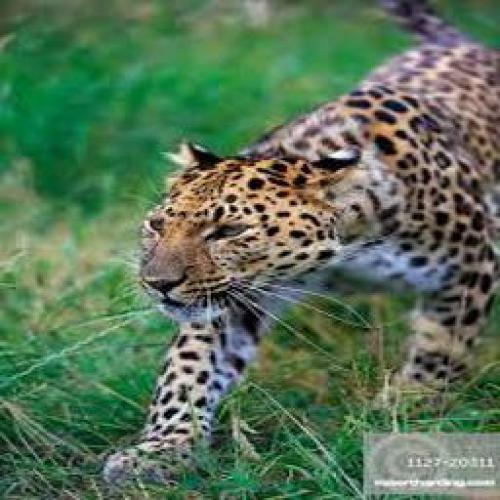amur_leopard-endangered: (96, 102, 470, 498)
